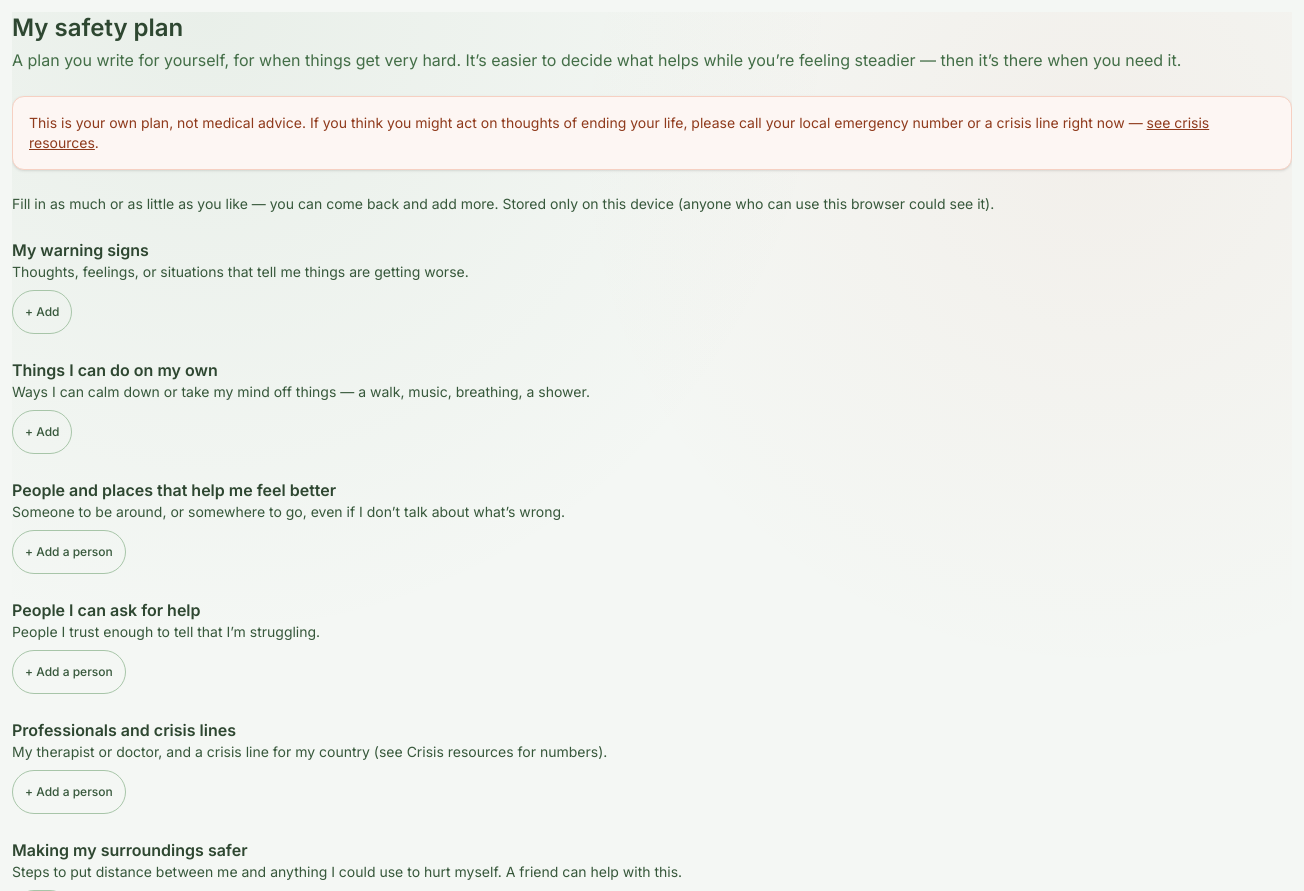
Test case: SafetyPlan page (no plan yet) › lets a row be removed
What coordinates should you click on to do the following:
click the button "+ Add" below "My warning signs"
I would click on:
 (42, 312)
Its box is 12,290 -> 72,334.
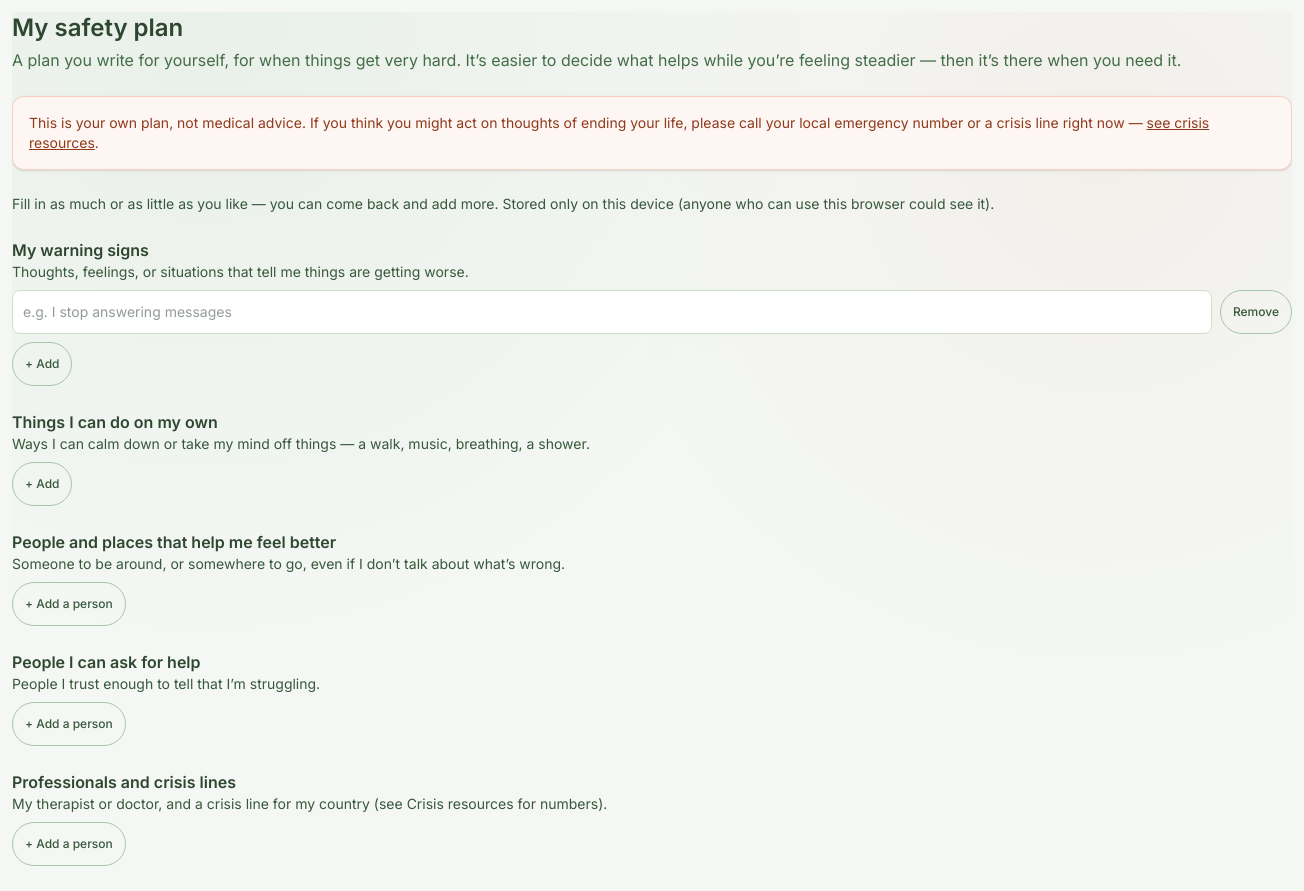
Now the number of fields is 1, box 12,290 -> 1212,334
What coordinates should you click on to do the following:
click the button "Remove"
I would click on:
 (1256, 312)
Its box is 1220,290 -> 1292,334.
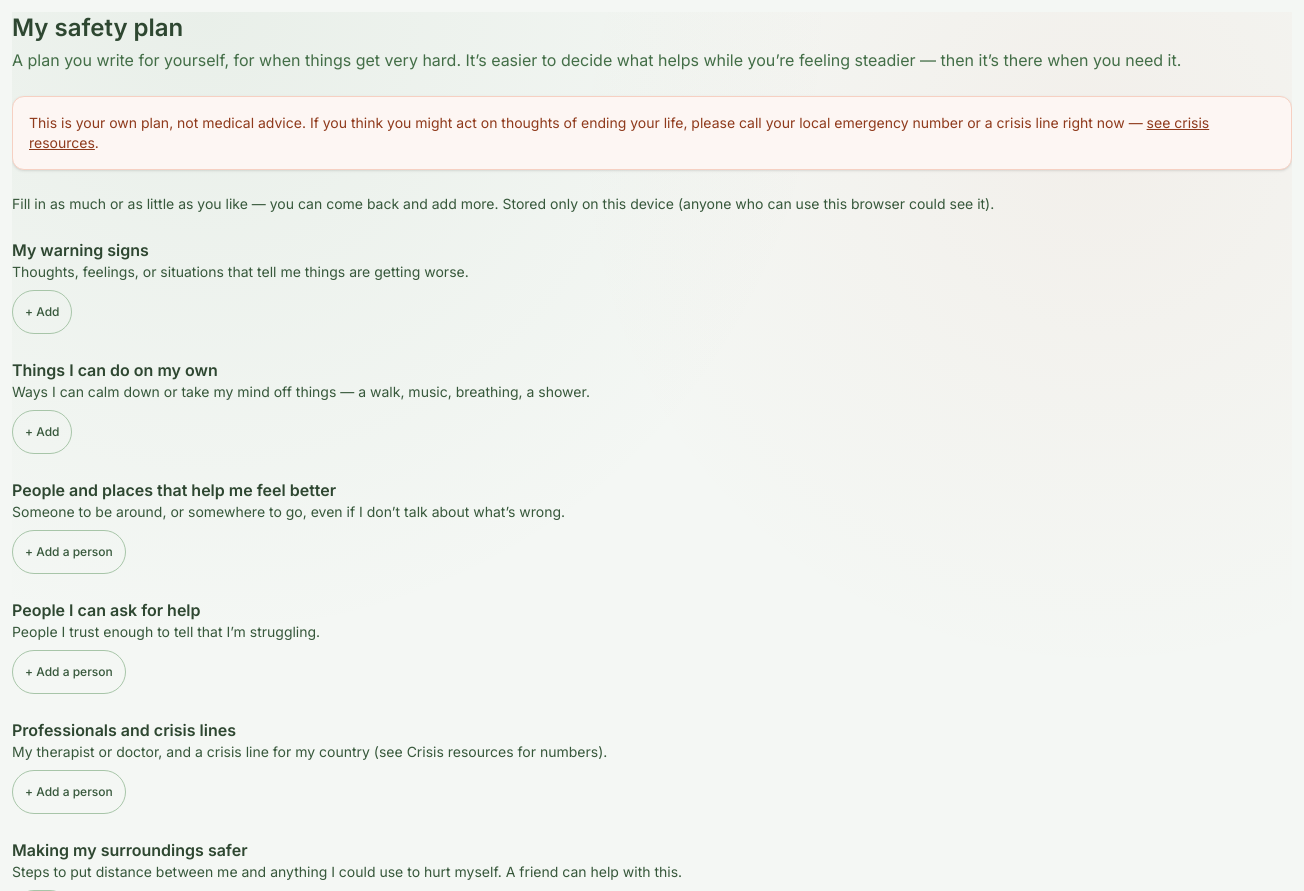
Now the field is gone
